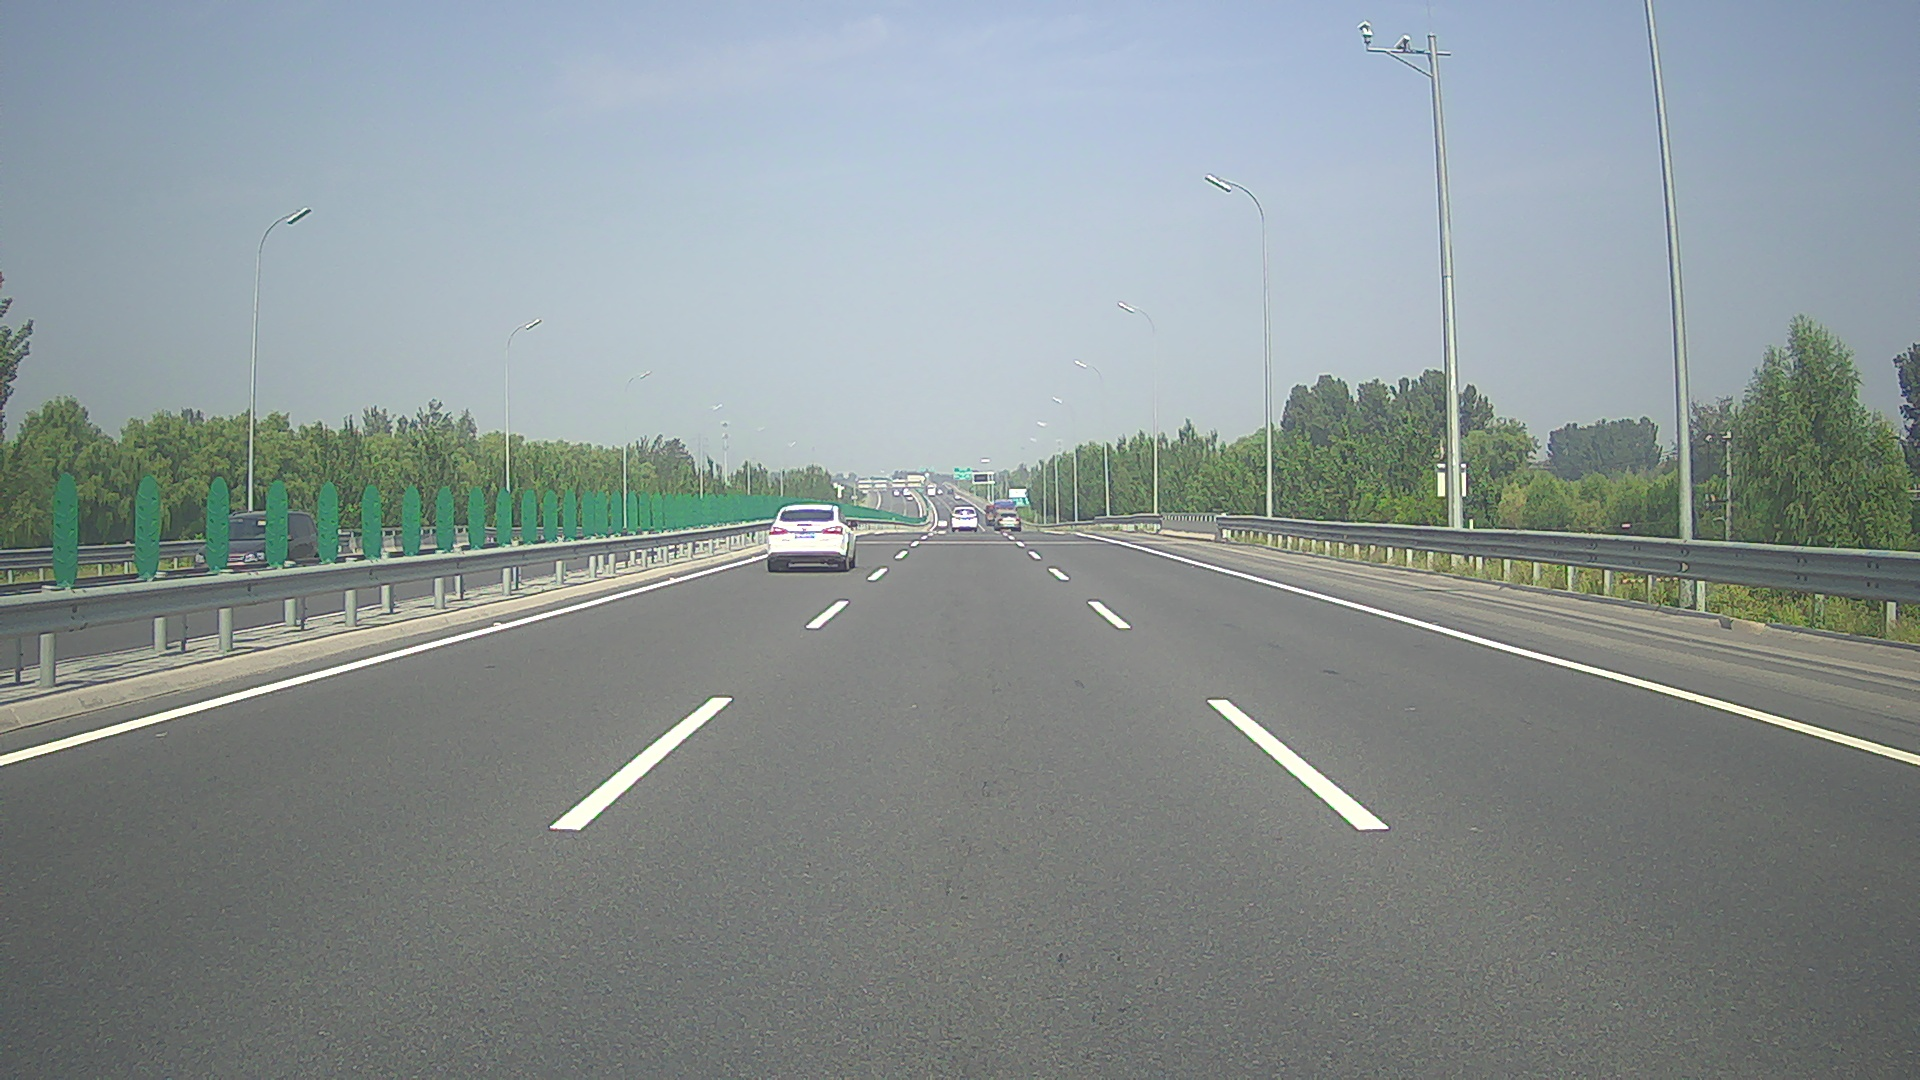car: (193, 512, 322, 589), (767, 504, 857, 571), (994, 510, 1022, 530)
truck: (994, 500, 1015, 525), (985, 505, 1004, 526)
van: (949, 506, 978, 531)
